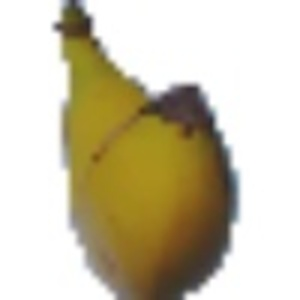banana: (44, 4, 245, 297)
